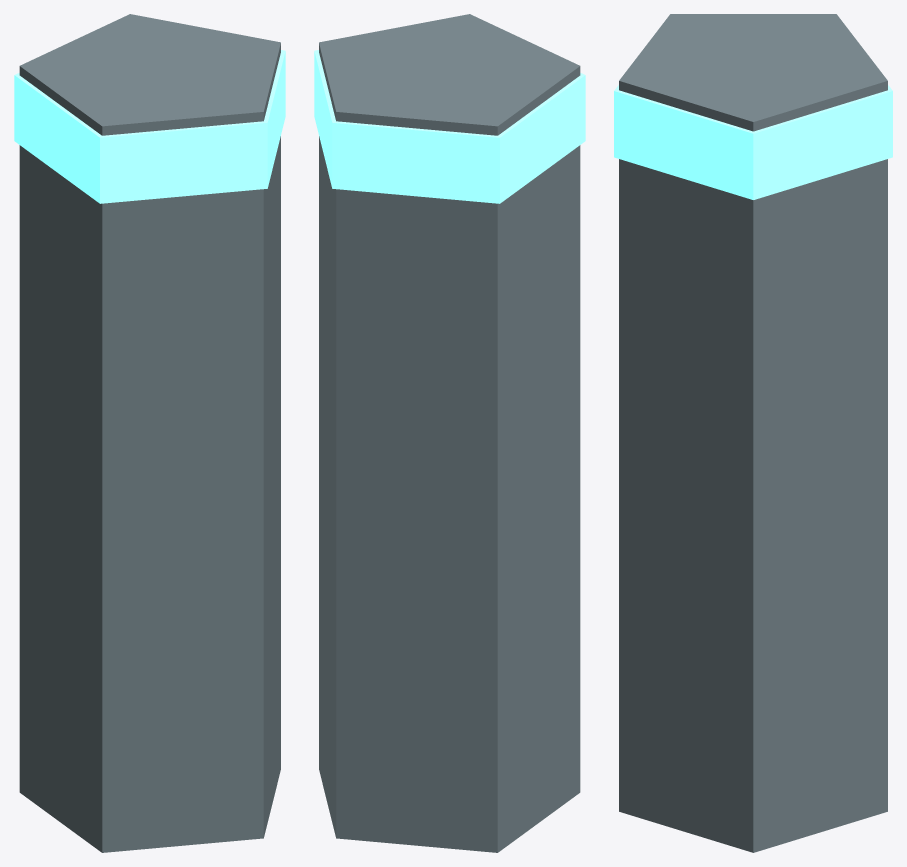
Rendered from prop_bollard_LOD2.glb.
3 views of the same model, side by side, from view 1: azimuth 30°, elevation 25°; view 2: azimuth 150°, elevation 25°; view 3: azimuth 270°, elevation 25° (orthographic).
Parts seen in each view (by area): view 1: prop_bollard__surface.002; view 2: prop_bollard__surface.002; view 3: prop_bollard__surface.002.
Boxes of the visible parts, x1,y1,x2,y2 form: prop_bollard__surface.002: (14, 14, 285, 852); prop_bollard__surface.002: (314, 14, 585, 852); prop_bollard__surface.002: (614, 14, 892, 852).
Bounding box in the file's own units: 0.2533 × 0.77 × 0.2663.
